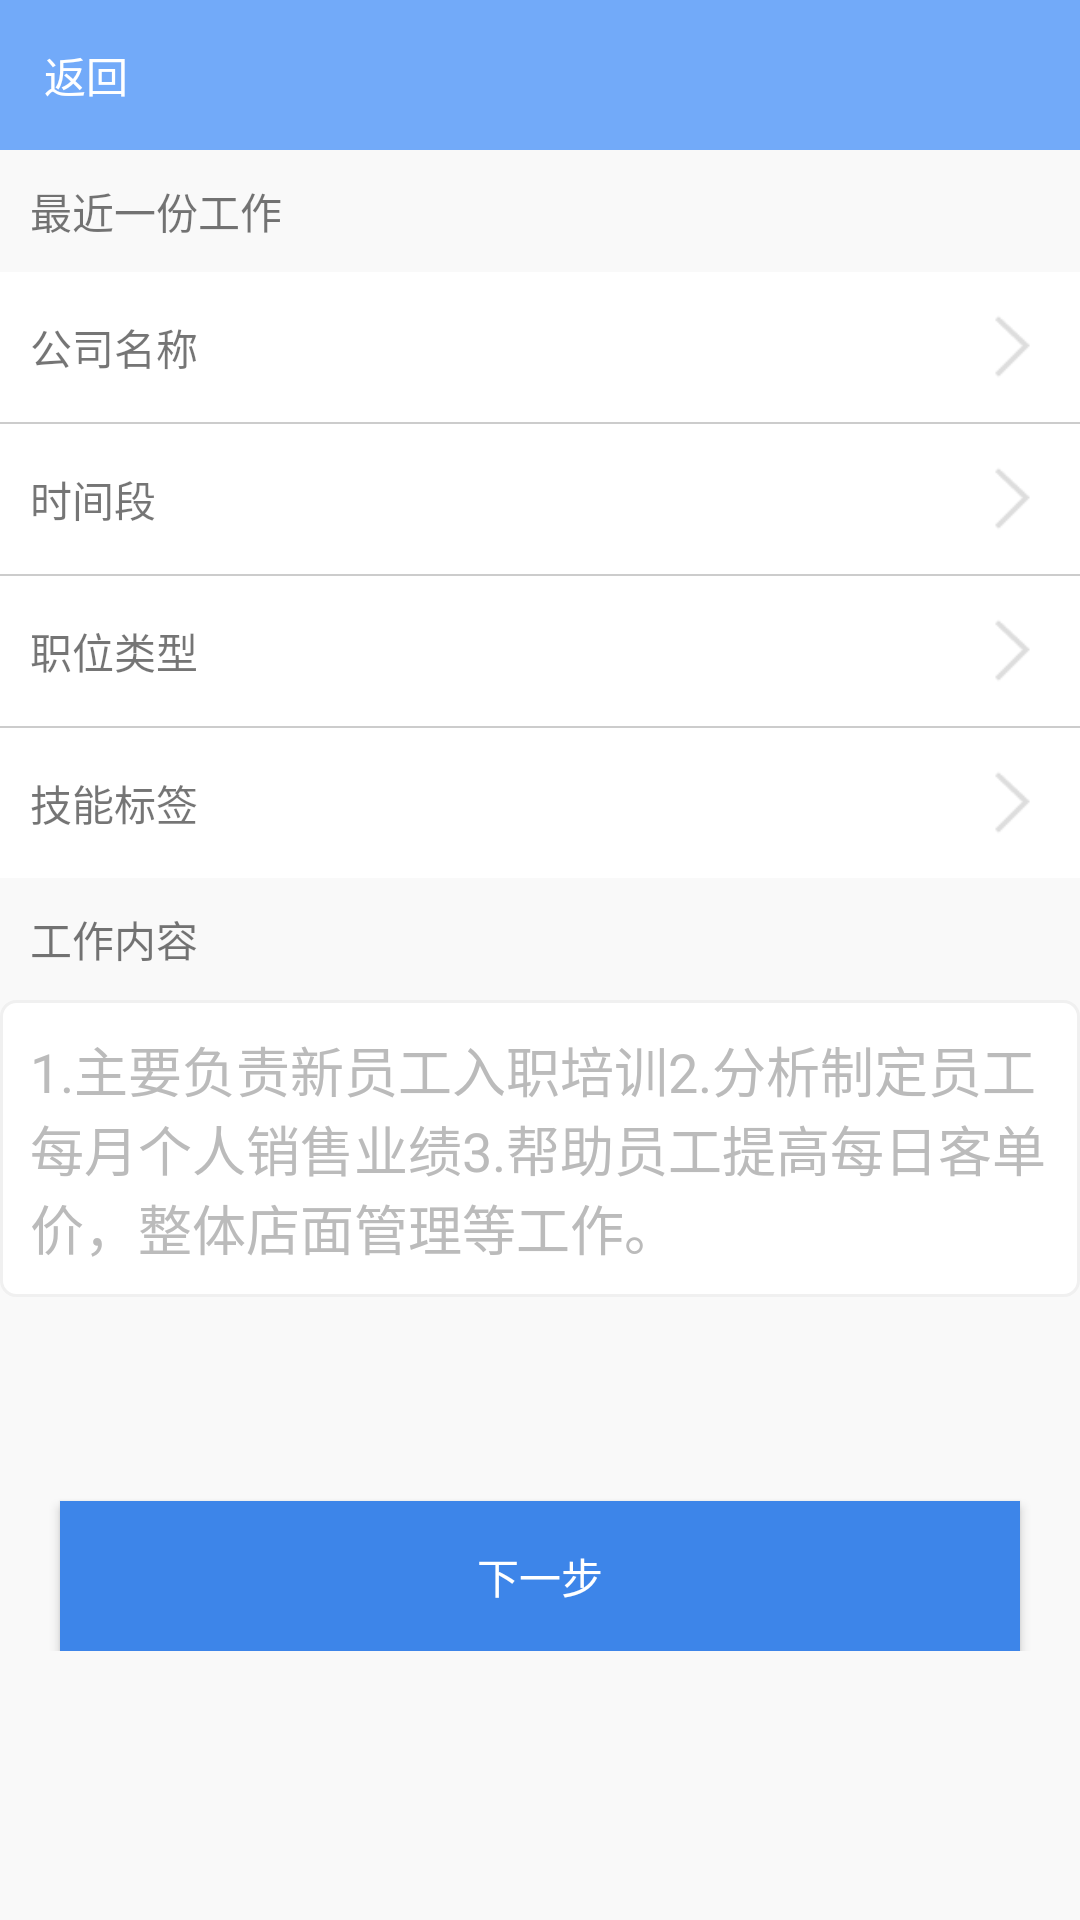

Screen size 1080×1920. Icon name, then its center in pixels as (x=x, y=y):
right arrow: (x=1012, y=346), (x=1012, y=498), (x=1012, y=650), (x=1012, y=802)
